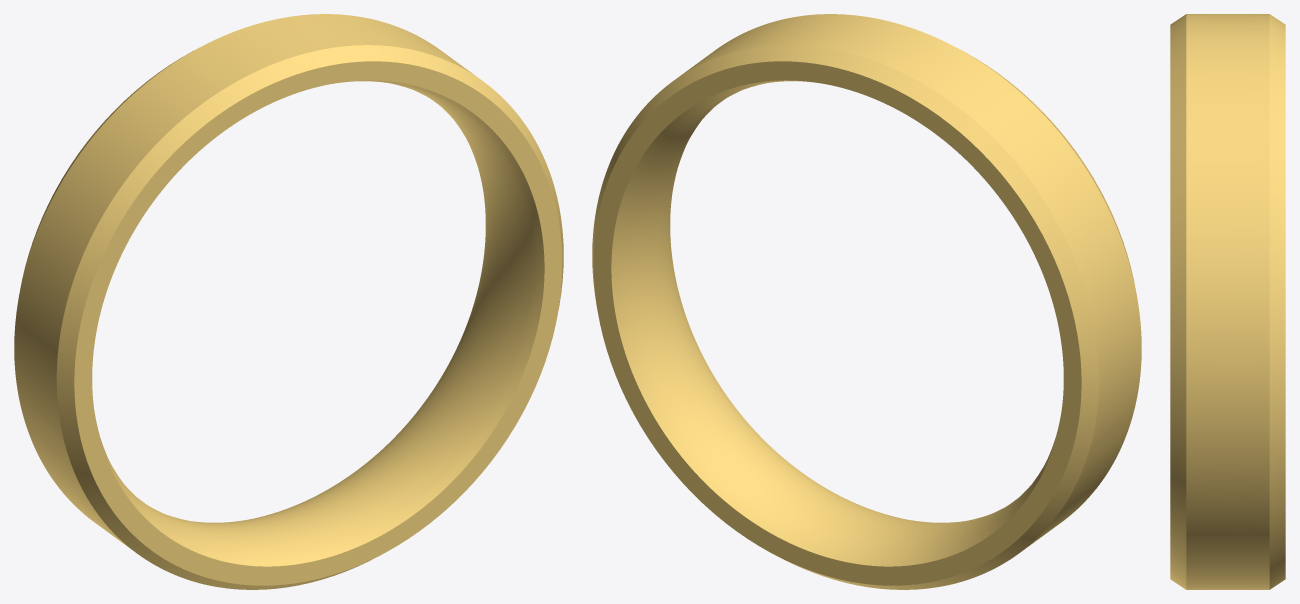
The model's file is OscarYGhiswb_blender.glb.
3 renders of one model, left to right at view 1: azimuth 30°, elevation 25°; view 2: azimuth 150°, elevation 25°; view 3: azimuth 270°, elevation 25°, orthographic.
Parts seen in each view (by area): view 1: HIS oscar YG for 3d model; view 2: HIS oscar YG for 3d model; view 3: HIS oscar YG for 3d model.
Boxes of the visible parts, left/top/right/bottom form: HIS oscar YG for 3d model: left=14, top=14, right=563, bottom=589; HIS oscar YG for 3d model: left=592, top=14, right=1141, bottom=589; HIS oscar YG for 3d model: left=1170, top=14, right=1285, bottom=589.
Size of the model in its own units: 23.41 by 23.41 by 4.7.
